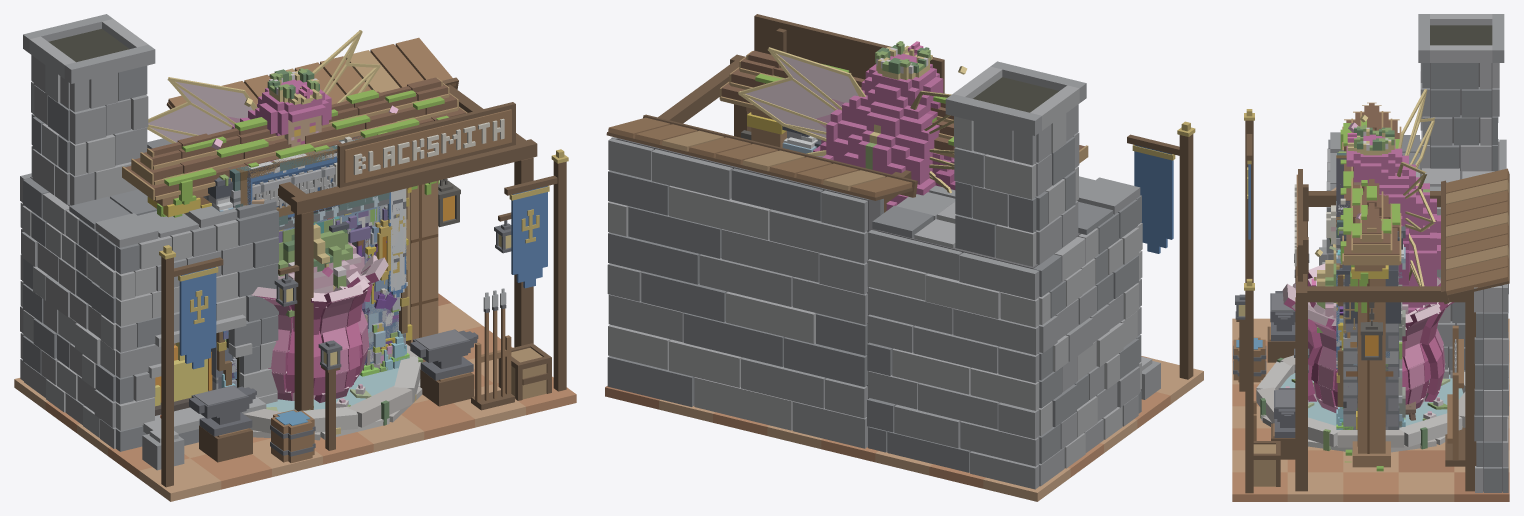
The model's file is lobby_kit_v3_roblox.glb.
3 views of the same model, side by side, from view 1: azimuth 30°, elevation 25°; view 2: azimuth 150°, elevation 25°; view 3: azimuth 270°, elevation 25° (orthographic). The views are drawn at different scales.
Parts seen in each view (by area): view 1: Blacksmith, FairyNPC, Leaderboard, PortalArch_FrostpeakPass, PortalArch_BogheartCaverns, PortalArch_WindsweptCliffs, PortalArch_ShatteredKingdom, Blacksmith_Glow, PortalArch_DrownedVillage, PortalArch_VoidRift, PortalArch_FrostpeakPass_Glow, PortalArch_ObsidianForge (+1 smaller); view 2: Blacksmith, FairyNPC, Leaderboard; view 3: Blacksmith, FairyNPC, Leaderboard, PortalArch_ShatteredKingdom, PortalArch_BogheartCaverns, PortalArch_WindsweptCliffs, FairyNPC_Glow, PortalArch_MossyGlade, PortalArch_FrostpeakPass, PortalArch_DrownedVillage.
Part boxes in pixels (box(x1,y1,x2,y2)): Blacksmith: box(14, 14, 576, 501); FairyNPC: box(147, 30, 422, 440); Leaderboard: box(122, 77, 467, 362); PortalArch_FrostpeakPass: box(204, 140, 406, 379); PortalArch_BogheartCaverns: box(208, 138, 409, 388); PortalArch_WindsweptCliffs: box(223, 136, 407, 387); PortalArch_ShatteredKingdom: box(203, 166, 408, 389); Blacksmith_Glow: box(154, 234, 511, 418); PortalArch_DrownedVillage: box(228, 137, 406, 228); PortalArch_VoidRift: box(232, 208, 392, 378); PortalArch_FrostpeakPass_Glow: box(221, 196, 409, 387); PortalArch_ObsidianForge: box(375, 206, 399, 284); Blacksmith: box(605, 14, 1203, 501); FairyNPC: box(738, 41, 955, 210); Leaderboard: box(719, 50, 1088, 163); Blacksmith: box(1232, 14, 1509, 501); FairyNPC: box(1256, 89, 1465, 452); Leaderboard: box(1340, 102, 1401, 471); PortalArch_ShatteredKingdom: box(1336, 231, 1398, 429); PortalArch_BogheartCaverns: box(1336, 150, 1405, 429); PortalArch_WindsweptCliffs: box(1336, 158, 1405, 419); FairyNPC_Glow: box(1311, 114, 1367, 286); PortalArch_MossyGlade: box(1357, 284, 1405, 427); PortalArch_FrostpeakPass: box(1336, 205, 1405, 421); PortalArch_DrownedVillage: box(1336, 153, 1393, 376).
Size of the model in its own units: 6 by 5 by 4.
